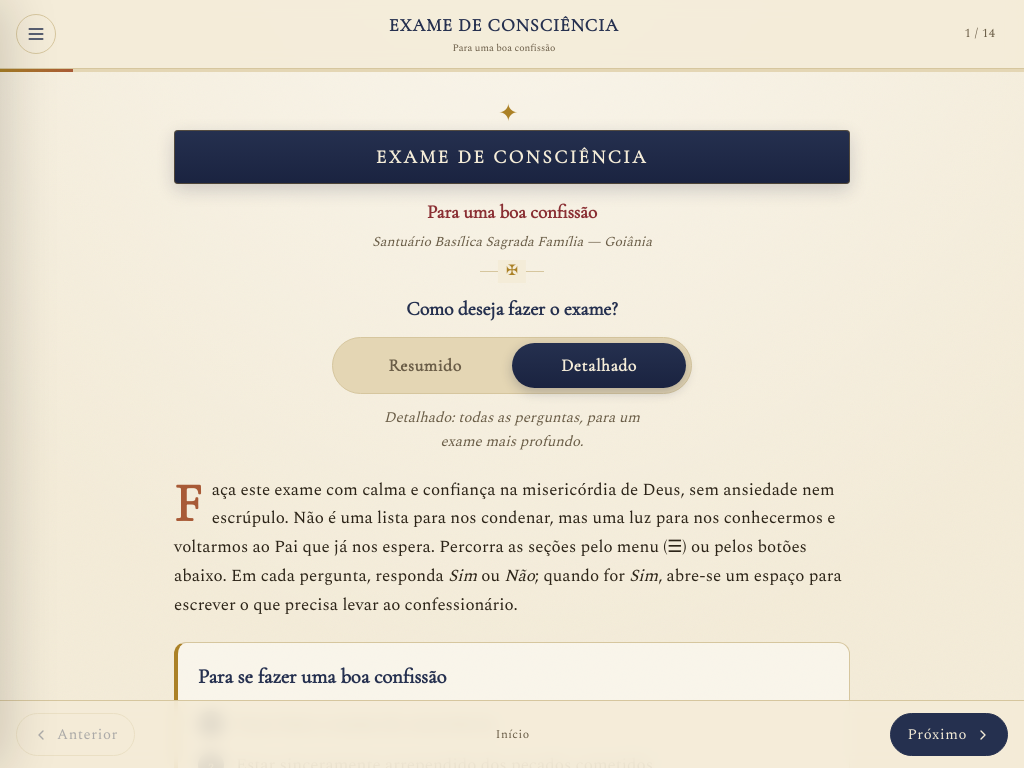
Scenario: App › permite abrir o índice e saltar para um mandamento
This screenshot has width=1024, height=768.
Click the button named "Abrir índice" at (36, 34), box [16, 14, 56, 54]
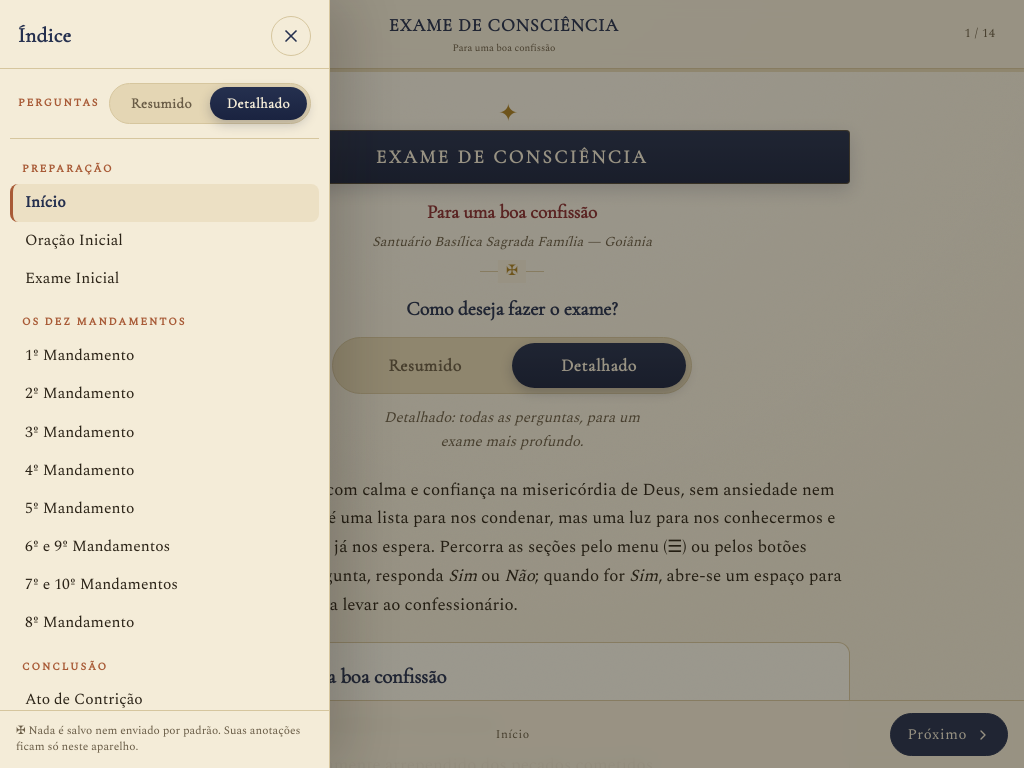
Click the button "1º Mandamento" at (80, 356), box [10, 337, 319, 376]
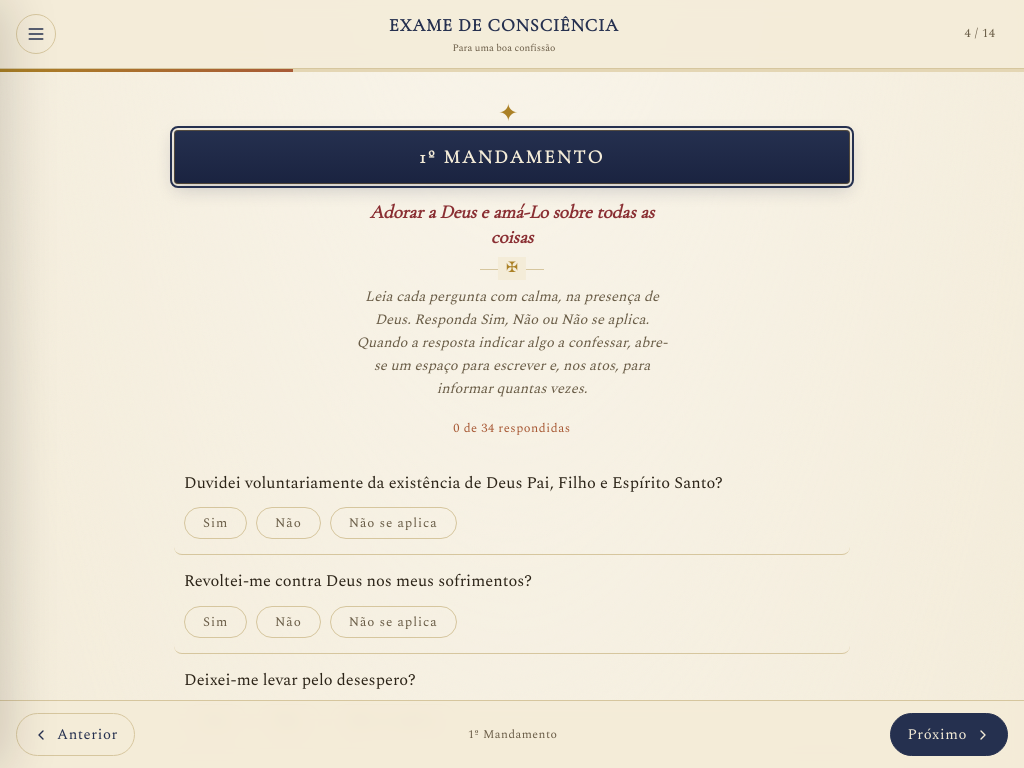
Expected: the heading "1º Mandamento" is shown, [174, 130, 850, 184]
